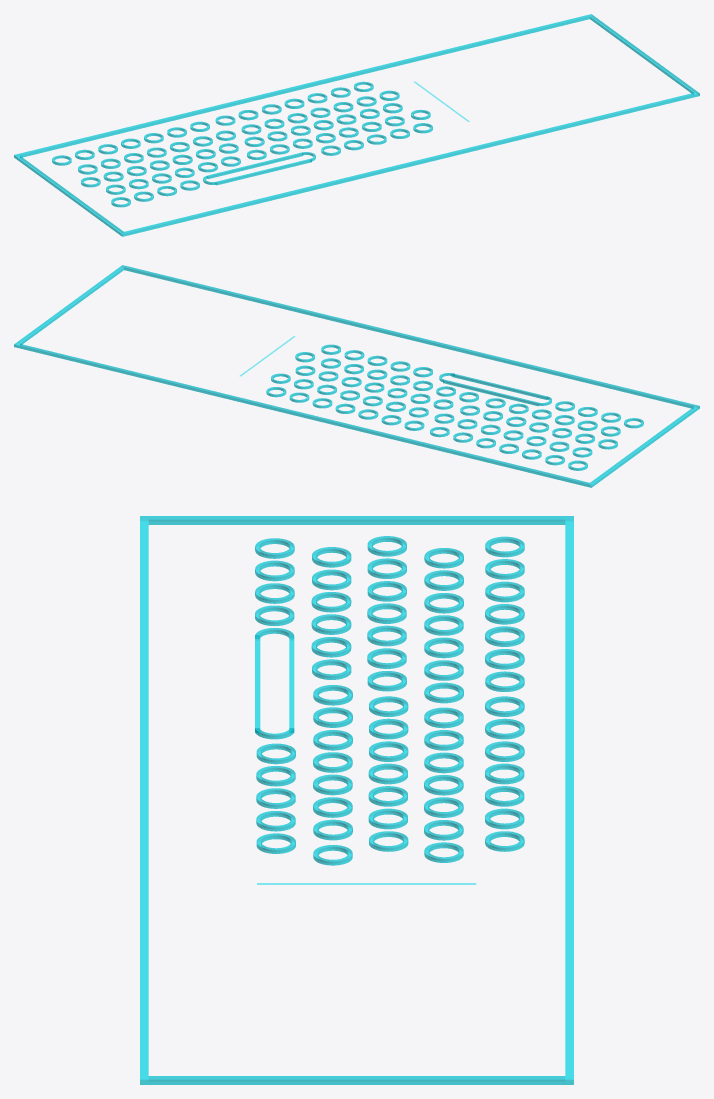
Rendered from my_keyboard.obj.
The picture shows the model from 3 angles, top to bottom: view 1: azimuth 30°, elevation 25°; view 2: azimuth 150°, elevation 25°; view 3: azimuth 270°, elevation 25°; orthographic projection. The views are drawn at different scales.
Visible parts, largest first — view 1: Cube_Cube.008, Cube.003_Cube.009; view 2: Cube_Cube.008, Cube.003_Cube.009; view 3: Cube_Cube.008, Cube.003_Cube.009.
Boxes of the visible parts, x1,y1,x2,y2 form: Cube_Cube.008: [14, 14, 699, 236]; Cube.003_Cube.009: [207, 152, 311, 185]; Cube_Cube.008: [14, 265, 699, 487]; Cube.003_Cube.009: [443, 373, 547, 406]; Cube_Cube.008: [140, 516, 573, 1084]; Cube.003_Cube.009: [255, 635, 294, 733].
Bounding box in the file's own units: 0.922 × 0.00476 × 0.3.
